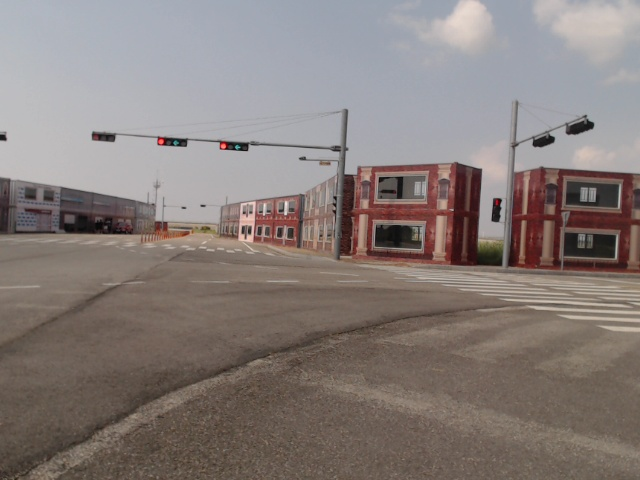left_green_4: (157, 138, 187, 147), (220, 142, 248, 151)
